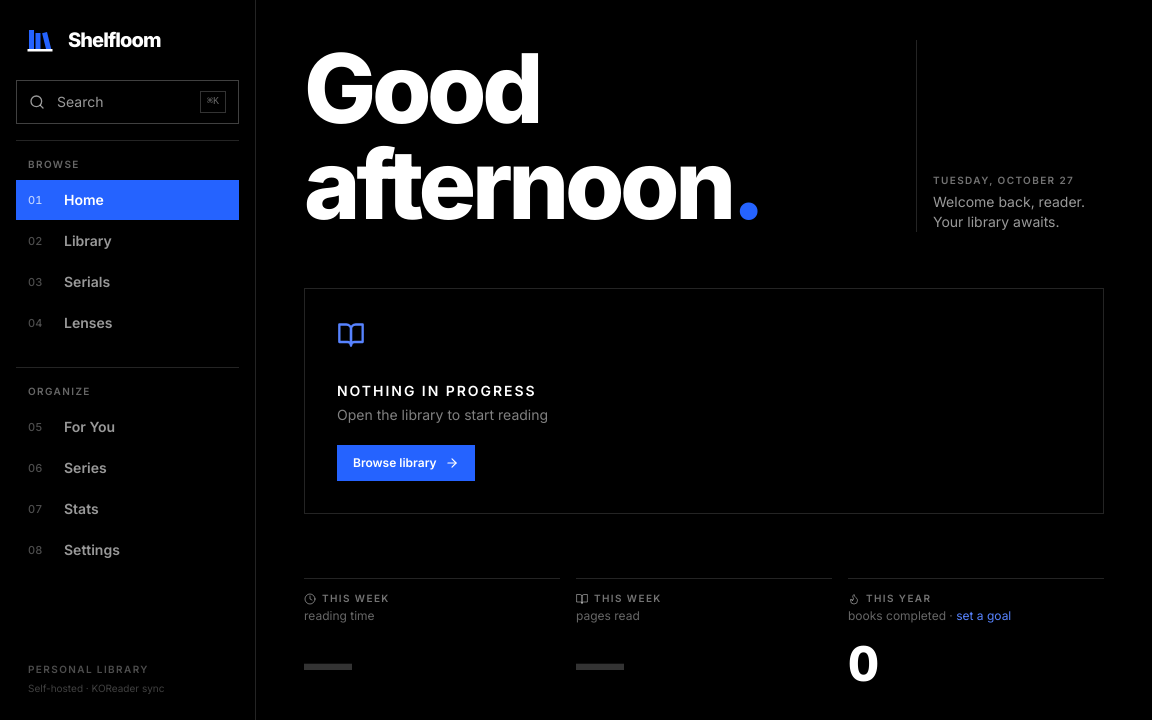
Test: App › navigates to series page
Expected: the heading named "dashboard" is shown, top-left (304, 40), bottom-right (900, 232)
Click the text "Series" at [85, 468], box top-left (64, 458), bottom-right (107, 478)
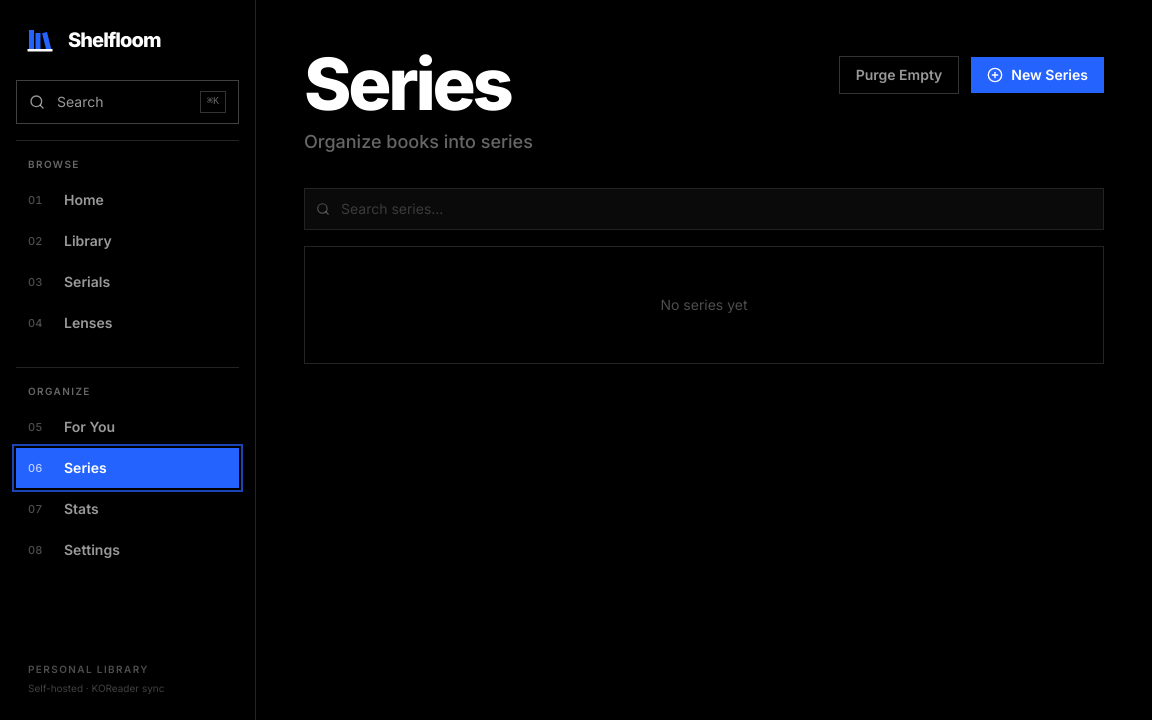
Result: the heading "Series" is shown at top-left (304, 48), bottom-right (533, 120)
